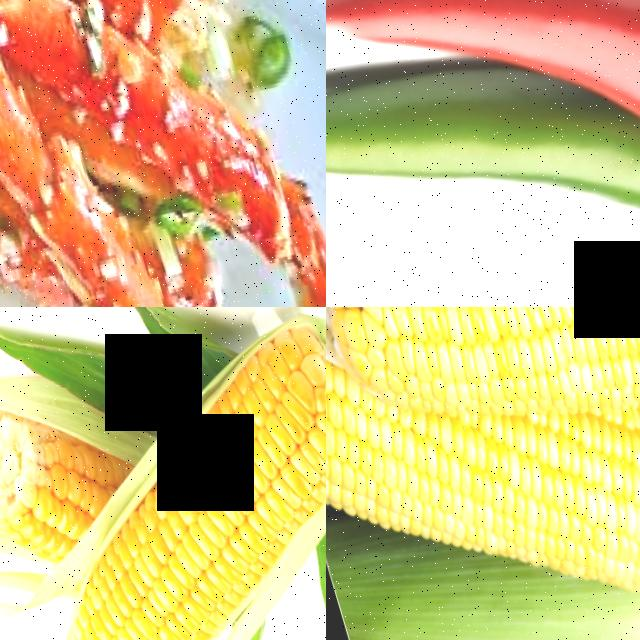chilli: (326, 16, 579, 268), (326, 0, 640, 143)
corn: (88, 307, 326, 640), (365, 361, 640, 640), (328, 307, 640, 498), (38, 509, 245, 640), (0, 397, 128, 573)
crab: (0, 0, 326, 307)
